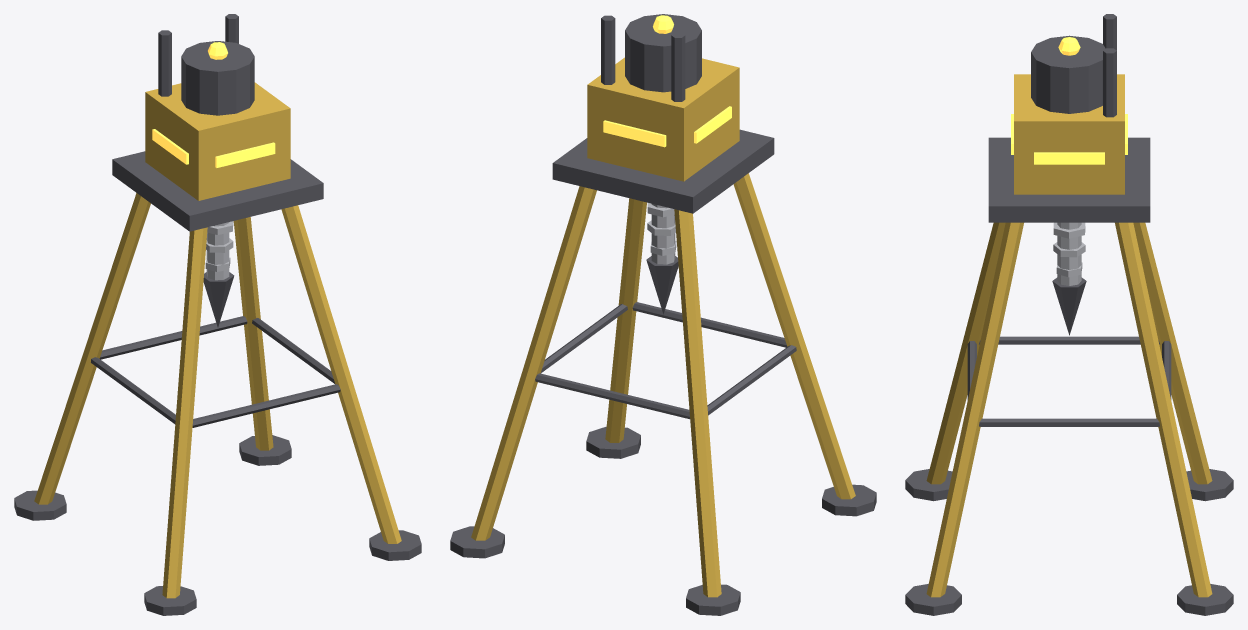
File: foreuse.gltf
3 views of the same model, side by side, from view 1: azimuth 30°, elevation 25°; view 2: azimuth 150°, elevation 25°; view 3: azimuth 270°, elevation 25° (orthographic). The views are drawn at different scales.
Visible parts, largest first — view 1: Carter, Cadre, Pied_2, Pied_3, Pied_1, Moteur, Pied_0, Renfort_2, Renfort_0, Patin_2, Patin_3, Patin_1 (+8 smaller); view 2: Carter, Cadre, Pied_1, Pied_0, Pied_2, Moteur, Pied_3, Renfort_0, Renfort_2, Patin_1, Patin_0, Patin_2 (+9 smaller); view 3: Carter, Cadre, Pied_0, Pied_3, Moteur, Pied_1, Pied_2, Renfort_3, Patin_0, Patin_3, Renfort_1, Patin_1 (+7 smaller).
Boxes of the visible parts, bbox=[...] form: Carter: bbox=[145, 82, 290, 200]; Cadre: bbox=[112, 151, 323, 231]; Pied_2: bbox=[162, 227, 207, 598]; Pied_3: bbox=[281, 205, 401, 543]; Pied_1: bbox=[34, 193, 150, 504]; Moteur: bbox=[181, 41, 254, 115]; Pied_0: bbox=[233, 217, 273, 450]; Renfort_2: bbox=[192, 384, 340, 427]; Renfort_0: bbox=[99, 316, 247, 359]; Patin_2: bbox=[144, 586, 196, 615]; Patin_3: bbox=[369, 530, 421, 560]; Patin_1: bbox=[14, 490, 66, 520]; Carter: bbox=[587, 57, 739, 181]; Cadre: bbox=[552, 129, 774, 213]; Pied_1: bbox=[674, 209, 721, 597]; Pied_0: bbox=[471, 186, 596, 540]; Pied_2: bbox=[733, 173, 855, 499]; Moteur: bbox=[625, 14, 701, 92]; Pied_3: bbox=[605, 198, 646, 442]; Renfort_0: bbox=[535, 373, 689, 419]; Renfort_2: bbox=[632, 302, 787, 347]; Patin_1: bbox=[686, 584, 740, 615]; Patin_0: bbox=[450, 526, 504, 558]; Patin_2: bbox=[822, 484, 876, 516]; Carter: bbox=[1014, 74, 1124, 194]; Cadre: bbox=[988, 137, 1150, 222]; Pied_0: bbox=[1115, 222, 1212, 597]; Pied_3: bbox=[926, 222, 1023, 597]; Moteur: bbox=[1031, 35, 1105, 113]; Pied_1: bbox=[1133, 222, 1212, 484]; Pied_2: bbox=[926, 222, 1005, 484]; Renfort_3: bbox=[979, 418, 1159, 426]; Patin_0: bbox=[1177, 584, 1233, 615]; Patin_3: bbox=[905, 584, 961, 615]; Renfort_1: bbox=[979, 336, 1159, 344]; Patin_1: bbox=[1186, 469, 1233, 501].
Size of the model in its own units: 3.25 by 5.62 by 3.25.
